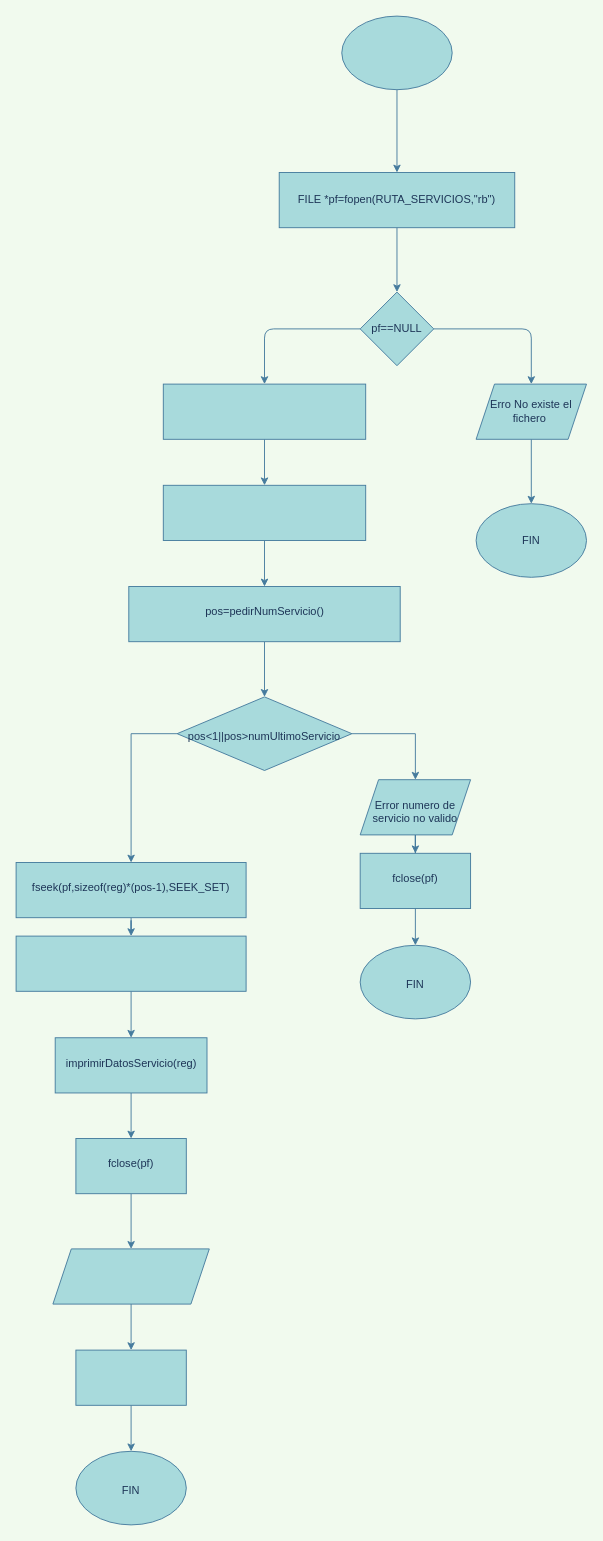
Some shapes in this 603 by 1541 pixel diagram are drawn without their labels. Each missing label, with the centre of its shape:
fread(&reg,sizeof(reg),1,pf): (130,963)
getch(): (130,1377)
INICIO: (396,52)
numUltimoServicio=tamFichero/sizeof(reg): (264,512)
Preguntar si continuar: (130,1276)
tamFichero=calcularTamañoFichero(pf): (264,411)
